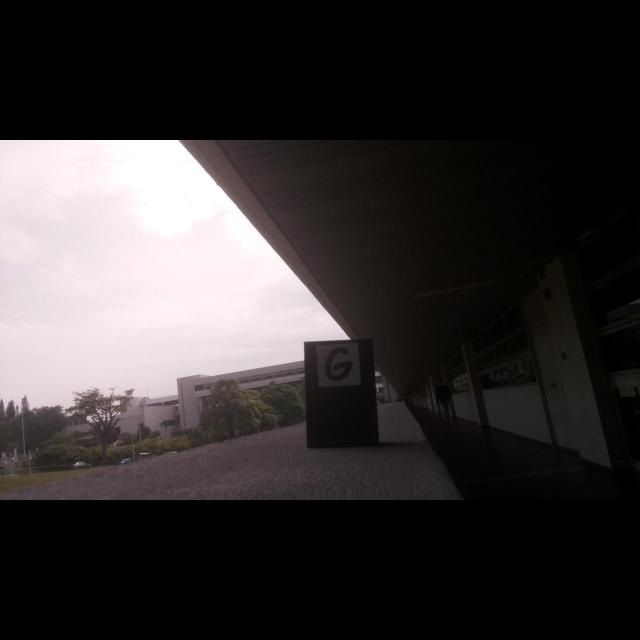G: (325, 347, 352, 381)
